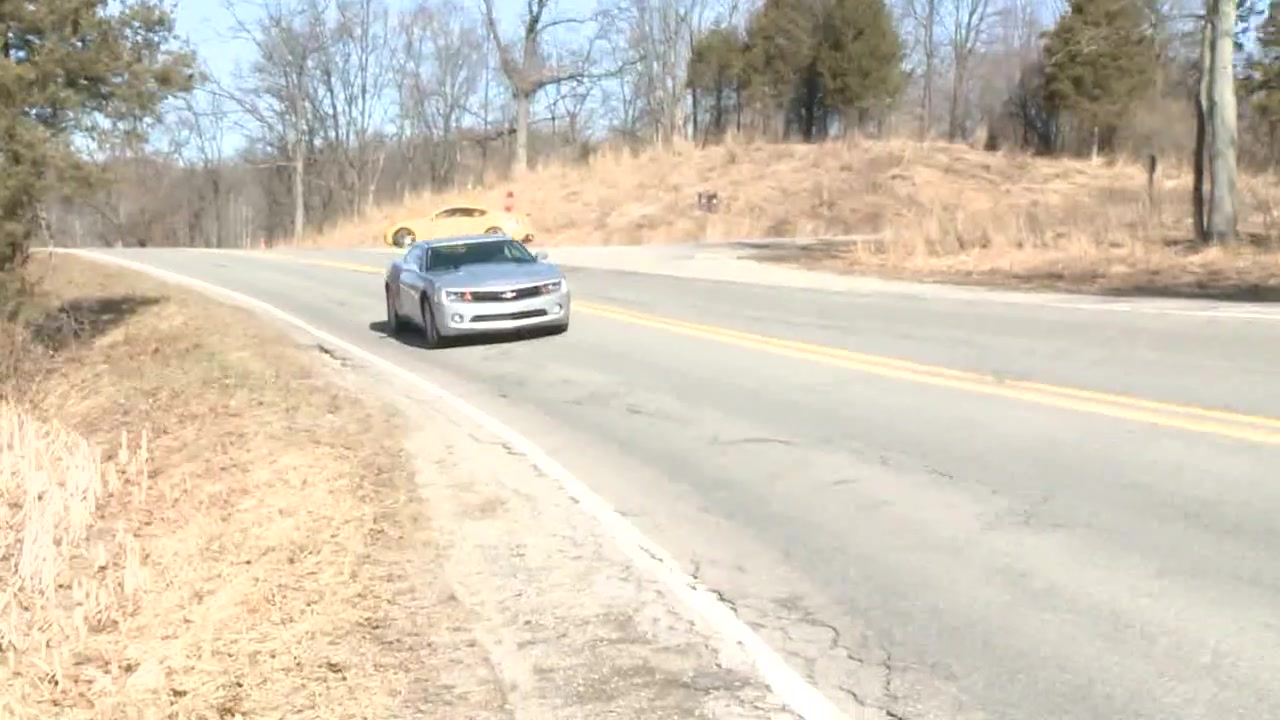car: (379, 232, 573, 350)
